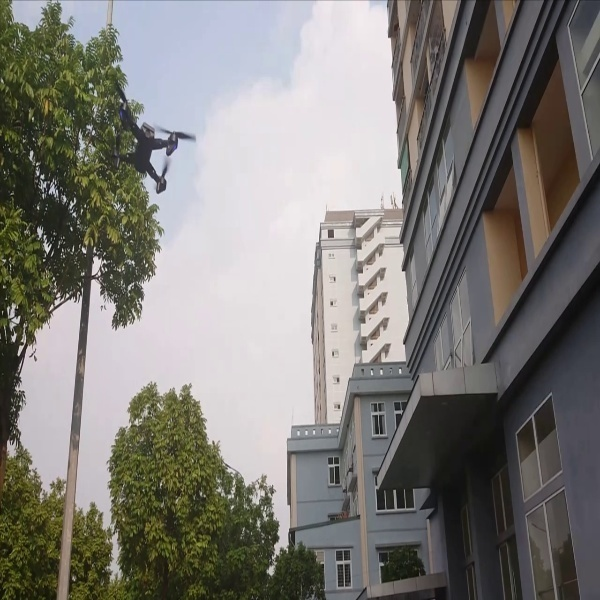drone: (94, 69, 201, 194)
